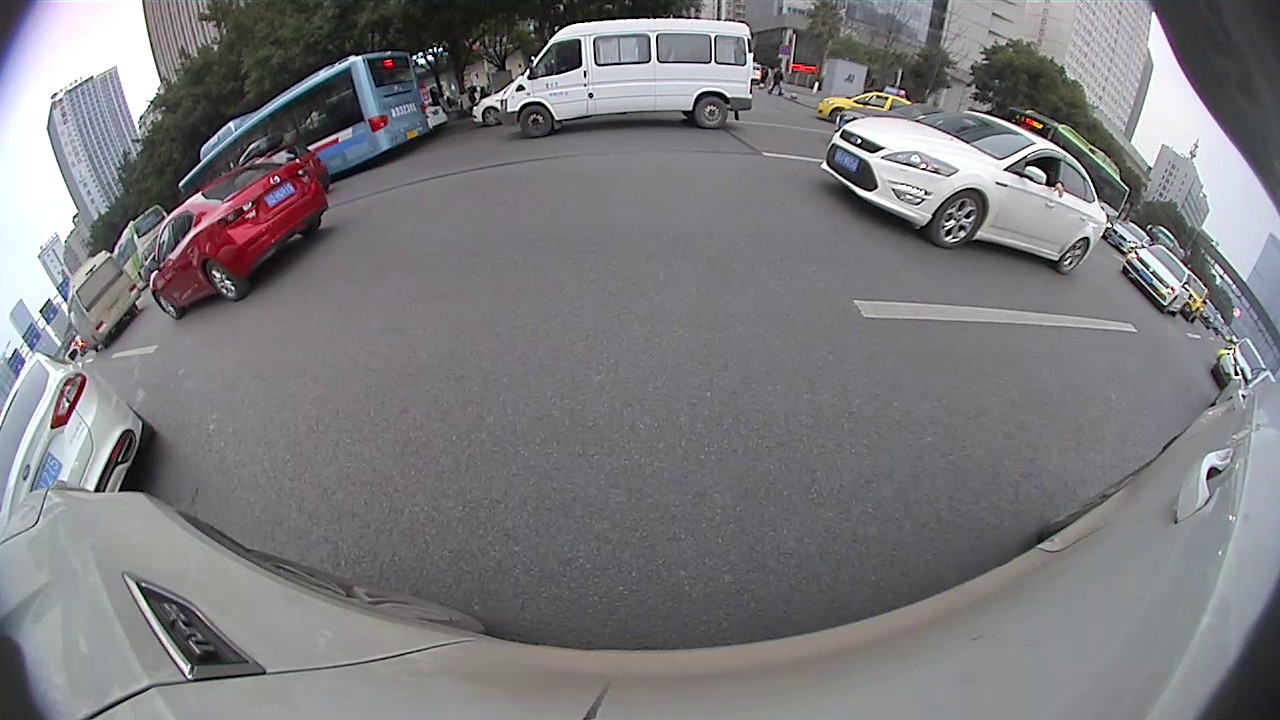bus: (179, 49, 429, 210), (67, 252, 140, 347)
car: (824, 113, 1104, 273), (505, 18, 754, 137), (3, 352, 155, 528), (152, 167, 332, 315), (1120, 246, 1186, 318)
front: (930, 187, 987, 249), (518, 103, 555, 141), (154, 290, 181, 320)
rear: (204, 256, 243, 301), (1058, 233, 1089, 275), (694, 96, 728, 128)
